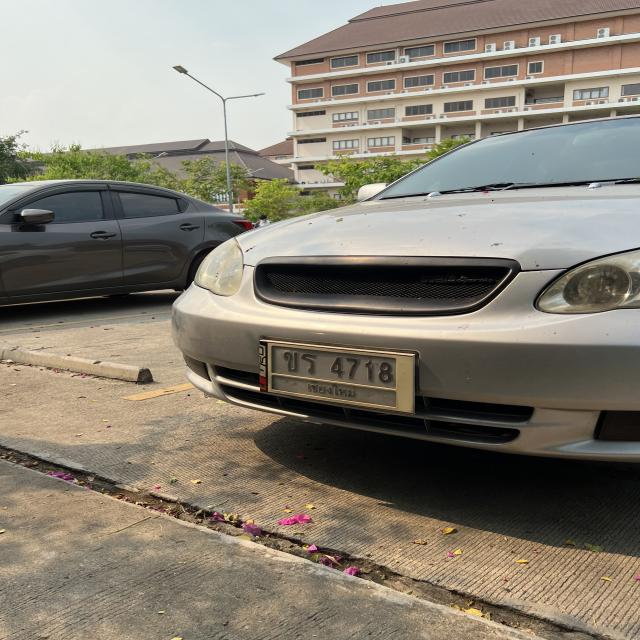license_plate: (258, 340, 416, 415)
